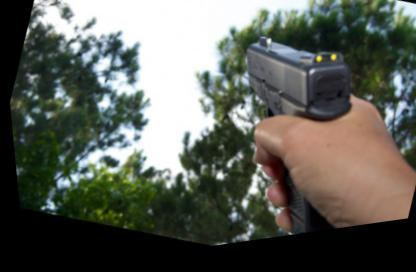pistol: (184, 16, 392, 250)
